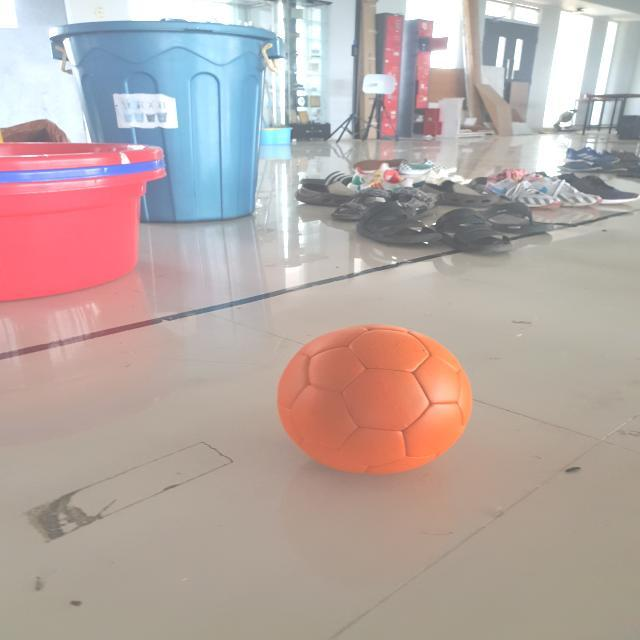bola: (248, 320, 490, 480)
